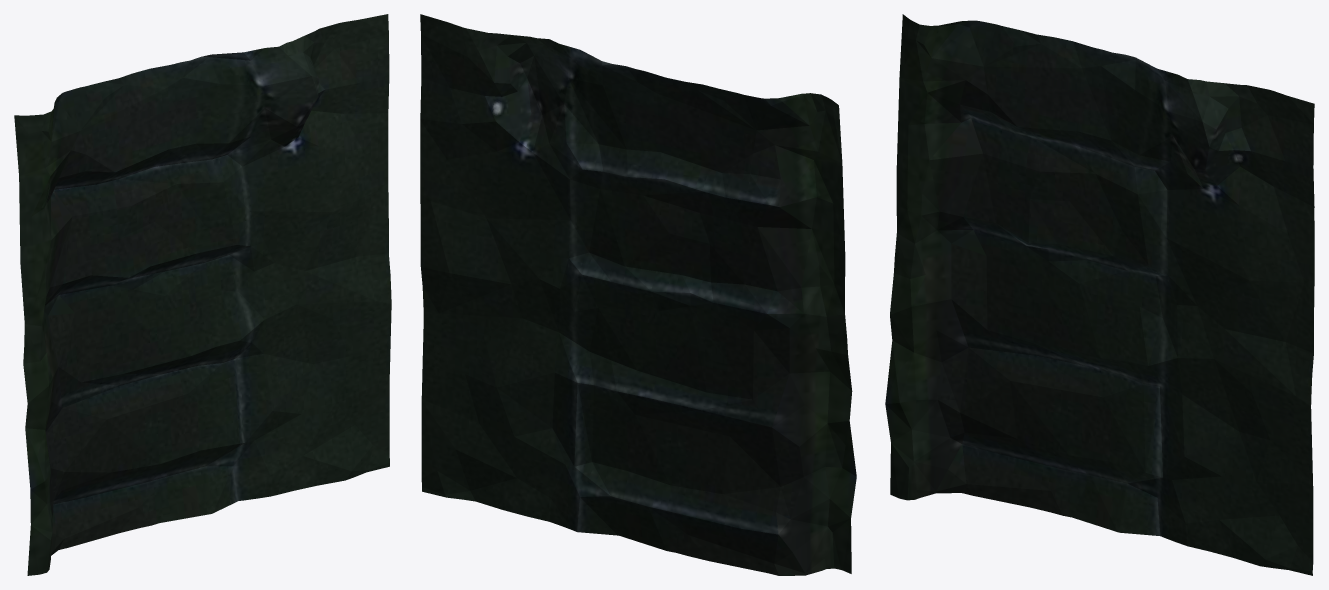
Rendered from tile_4_0_18_tex.obj.
3 renders of one model, left to right at view 1: azimuth 30°, elevation 25°; view 2: azimuth 150°, elevation 25°; view 3: azimuth 330°, elevation 25°, orthographic. The views are drawn at different scales.
Visible parts, largest first — view 1: obj_0; view 2: obj_0; view 3: obj_0.
Part boxes in pixels (bbox=[...]): obj_0: bbox=[14, 14, 391, 575]; obj_0: bbox=[420, 14, 856, 575]; obj_0: bbox=[885, 14, 1314, 575].
Bounding box in the file's own units: 10.05 × 11.26 × 1.42.
1 material, 1 textured.
